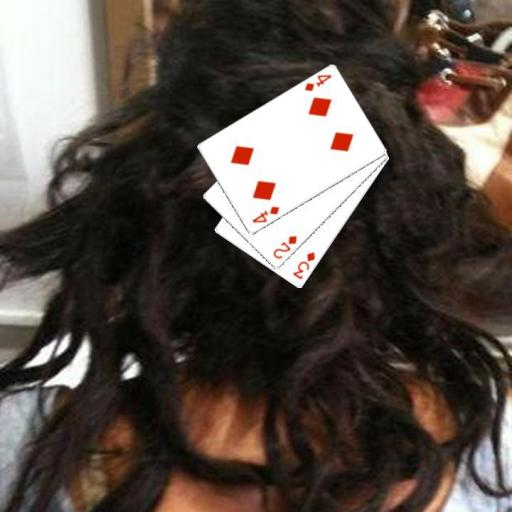2D: (270, 233, 299, 260)
3D: (290, 249, 317, 281)
4D: (249, 203, 281, 225), (301, 72, 333, 93)
